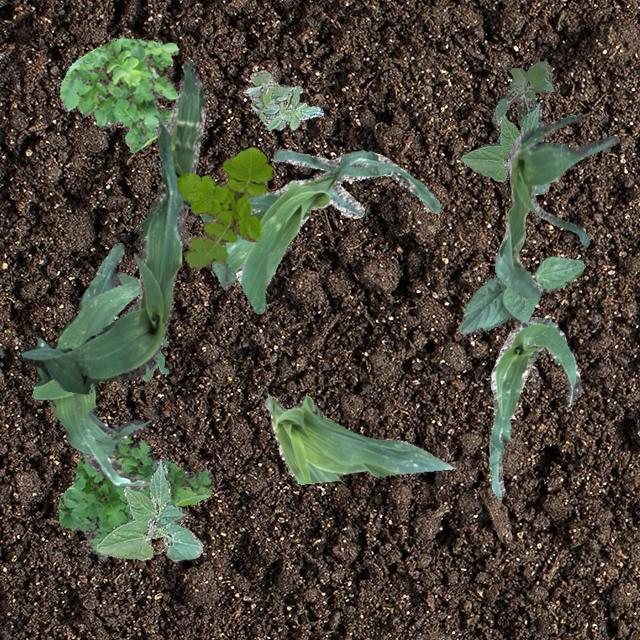crop: (21, 59, 204, 394), (198, 148, 440, 312), (32, 242, 152, 488), (494, 114, 616, 298), (264, 392, 454, 483), (488, 316, 580, 498), (96, 458, 202, 560), (458, 254, 584, 334), (460, 101, 548, 192), (211, 260, 237, 288)
weed: (58, 436, 212, 558), (59, 36, 178, 152), (175, 146, 272, 266), (492, 60, 554, 142), (244, 68, 322, 128), (142, 338, 168, 380)
